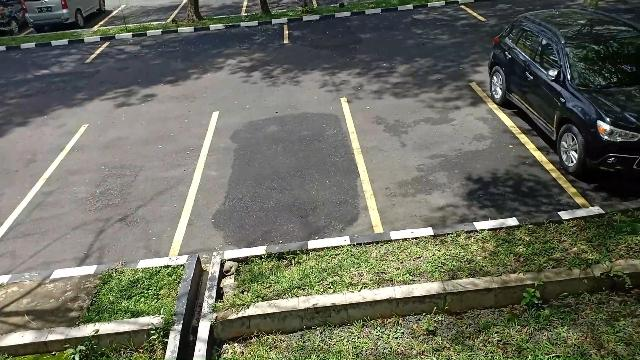empty: (200, 110, 360, 246), (360, 85, 512, 226), (26, 129, 192, 258), (95, 23, 288, 64), (285, 8, 481, 48)
occupied: (490, 50, 640, 208)
